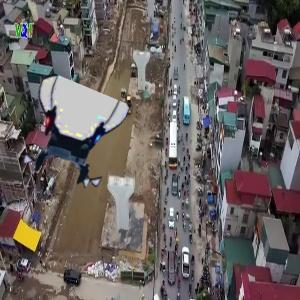drone: (22, 86, 124, 188)
